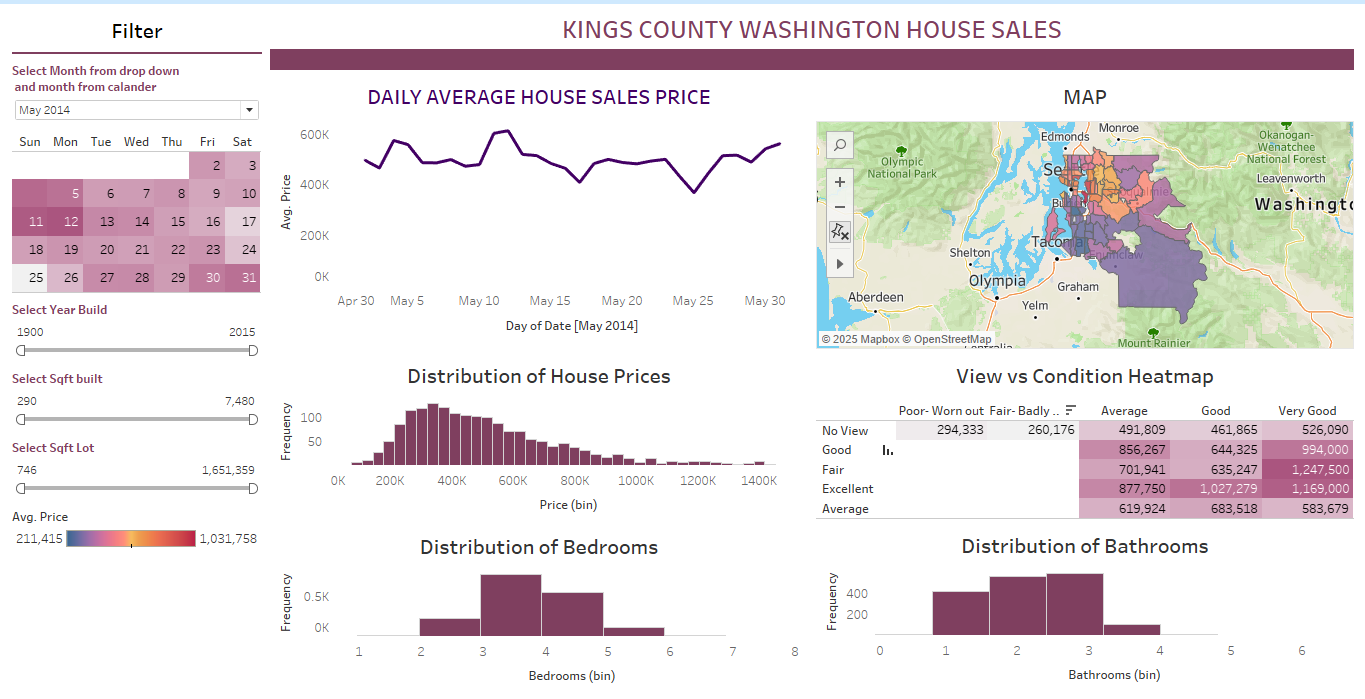

What the dashboard file says about the page in this screenshot:
{"tool":"tableau","page":{"name":"Dashboard 1","canvas":[1000,1000],"units":"permille","ordinal":0},"visuals":[{"type":"text","box":[6.9,14.7,188.4,66.2]},{"type":"text","box":[195.3,14.7,797.8,46.3]},{"type":"blank","box":[195.3,61,797.8,41.3]},{"type":"blank","box":[6.9,80.9,188.4,18.4]},{"type":"filter","title":"Calander","param":"[federated.0j36n6l0d0xmul11ji7vw0tlgr6z].[my:date:ok]","box":[6.9,99.3,188.4,126.8]},{"type":"worksheet","title":"LINE CHART","mark":"Automatic","rows":["price"],"cols":["date"],"box":[195.3,102.3,398.8,397.7]},{"type":"worksheet","title":"MAP","mark":"Automatic","box":[594.1,102.3,399,397.7]},{"type":"worksheet","title":"Calander","mark":"Square","rows":["date"],"cols":["date"],"box":[6.9,226.1,188.4,200.3]},{"type":"filter","title":"Calander","param":"[federated.0j36n6l0d0xmul11ji7vw0tlgr6z].[none:yr_built:qk]","box":[6.9,426.4,188.4,126.8]},{"type":"worksheet","title":"Histogram","mark":"Automatic","rows":["price"],"cols":["Price (bin)"],"box":[195.3,500,398.9,242.6]},{"type":"worksheet","title":"Heatmap","mark":"Square","rows":["view"],"cols":["condition"],"box":[594.2,500,398.9,242.5]},{"type":"filter","title":"Calander","param":"[federated.0j36n6l0d0xmul11ji7vw0tlgr6z].[none:sqft_living:qk]","box":[6.9,553.3,188.4,126.8]},{"type":"filter","title":"Calander","param":"[federated.0j36n6l0d0xmul11ji7vw0tlgr6z].[none:sqft_lot:qk]","box":[6.9,680.1,188.4,126.8]},{"type":"worksheet","title":"Bath Histo","mark":"Automatic","rows":["bathrooms"],"cols":["Bathrooms (bin)"],"box":[594.2,742.5,398.9,242.8]},{"type":"worksheet","title":"Bed Histo","mark":"Automatic","rows":["bedrooms"],"cols":["Bedrooms (bin)"],"box":[195.3,742.6,398.9,242.7]},{"type":"legend","title":"MAP","param":"[federated.0j36n6l0d0xmul11ji7vw0tlgr6z].[avg:price:qk]","box":[6.9,807,188.4,119.5]},{"type":"blank","box":[6.9,926.4,188.4,58.9]}]}

Visuals, with their boxes on the dashboard's canvas, which has no fixed pixel size, in thousandths of its width and height (x1, y1, x2, y2). These are canvas units, not pixel positions in the 1365x699 screenshot, which may show the page scaled, cropped or inside an application window:
text: <box>7,15,195,81</box>
text: <box>195,15,993,61</box>
blank: <box>195,61,993,102</box>
blank: <box>7,81,195,99</box>
"Calander" filter: <box>7,99,195,226</box>
"LINE CHART" worksheet: <box>195,102,594,500</box>
"MAP" worksheet: <box>594,102,993,500</box>
"Calander" worksheet (Square marks): <box>7,226,195,426</box>
"Calander" filter: <box>7,426,195,553</box>
"Histogram" worksheet: <box>195,500,594,743</box>
"Heatmap" worksheet (Square marks): <box>594,500,993,742</box>
"Calander" filter: <box>7,553,195,680</box>
"Calander" filter: <box>7,680,195,807</box>
"Bath Histo" worksheet: <box>594,742,993,985</box>
"Bed Histo" worksheet: <box>195,743,594,985</box>
"MAP" legend: <box>7,807,195,926</box>
blank: <box>7,926,195,985</box>
